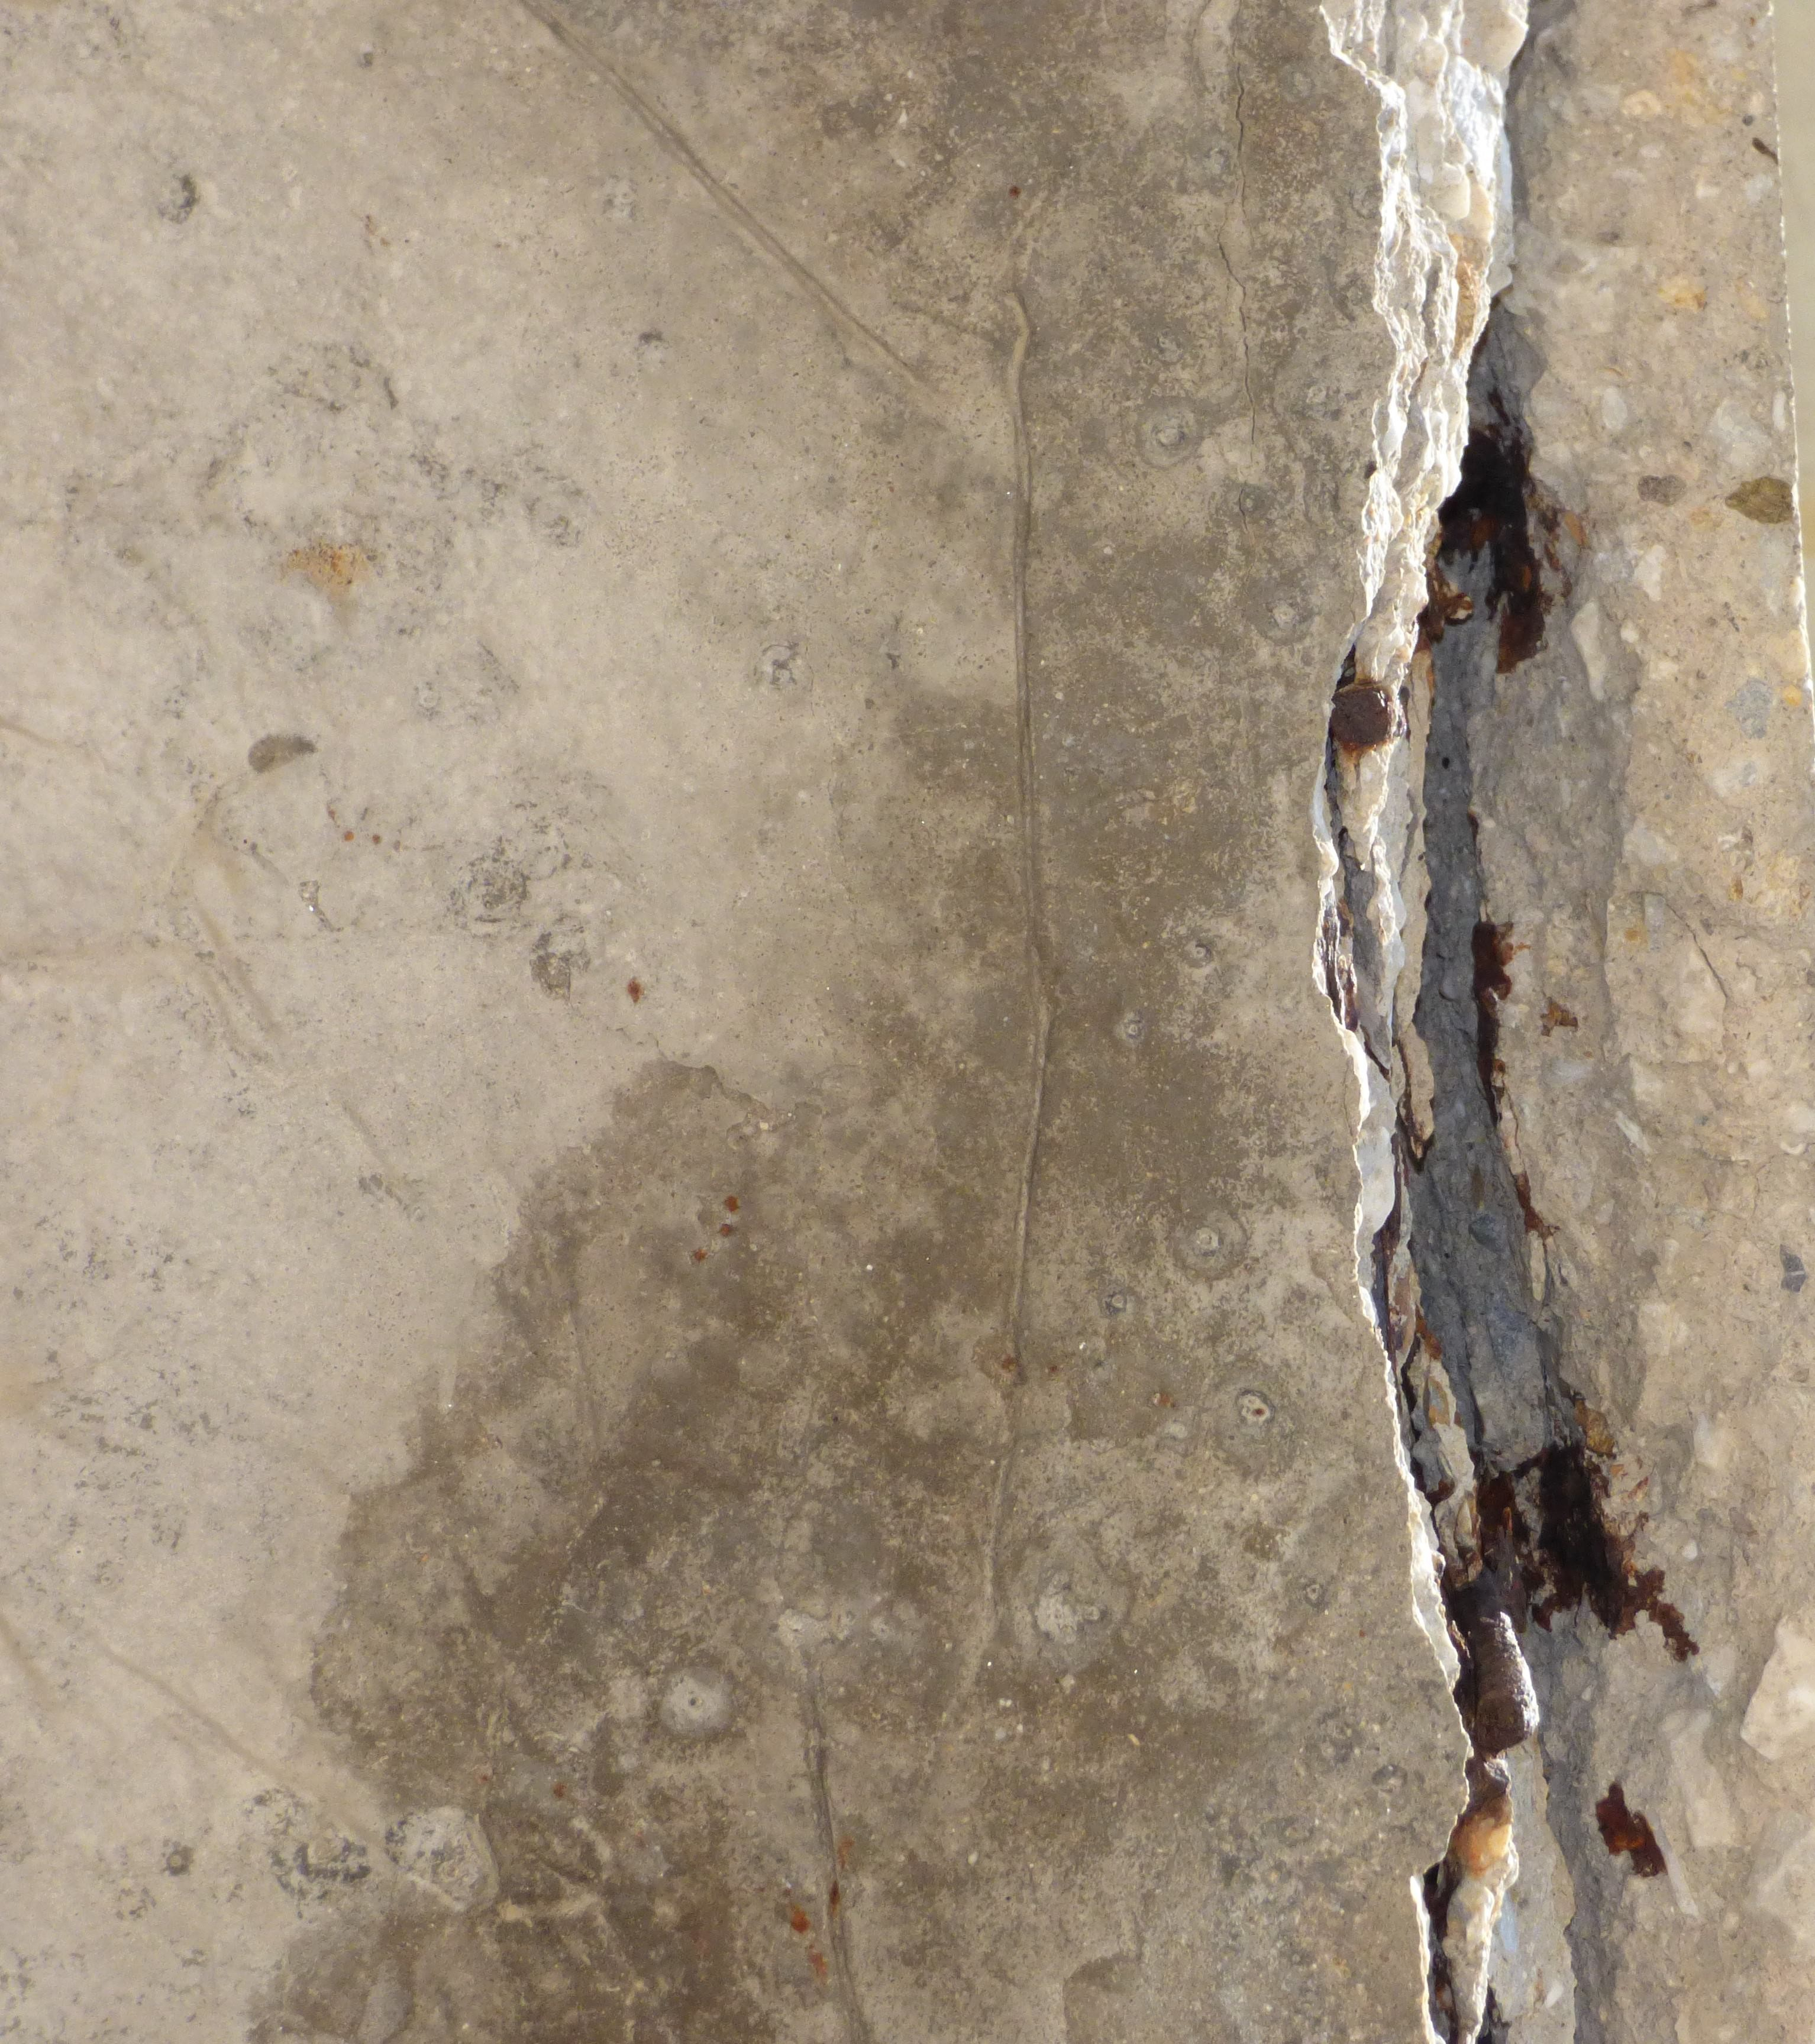Corrosion: (1444, 1440, 1699, 1660), (1414, 426, 1547, 674), (1470, 920, 1515, 1124), (1451, 1753, 1512, 1879), (1596, 1781, 1670, 1878), (1330, 683, 1391, 750)
Exposed reinforcement: (1480, 1587, 1540, 1753)
Spalling: (1307, 0, 1815, 2044)
